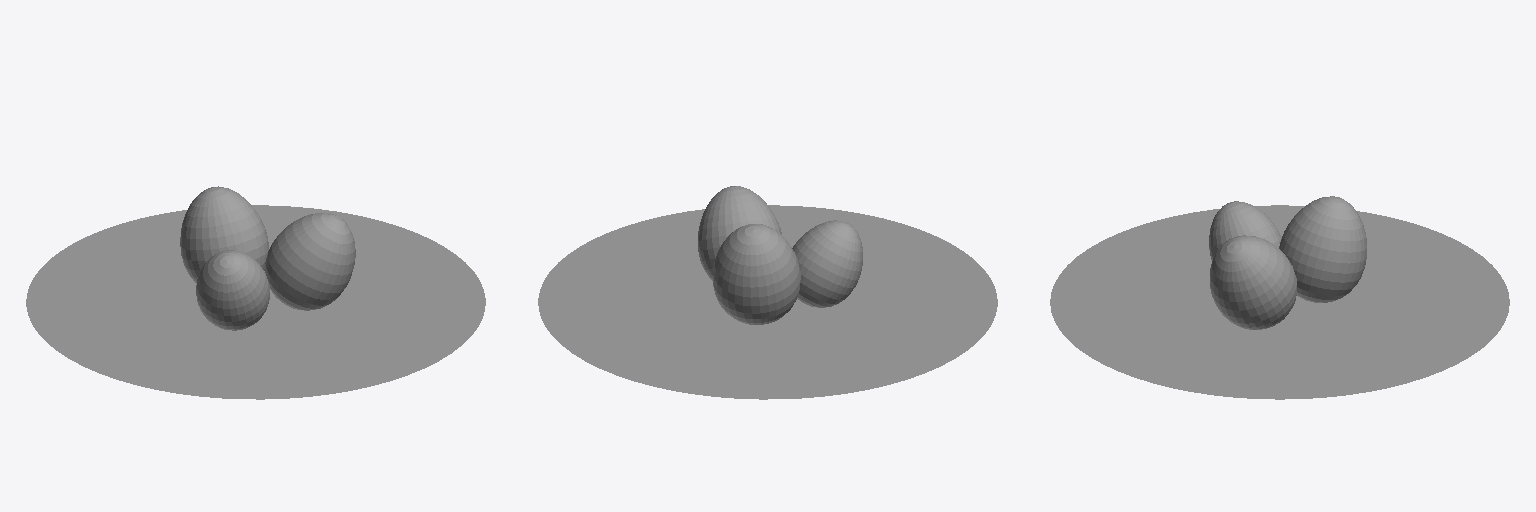
Rendered from Eggs.obj.
3 renders of one model, left to right at view 1: azimuth 30°, elevation 25°; view 2: azimuth 150°, elevation 25°; view 3: azimuth 270°, elevation 25°, orthographic.
Visible parts, largest first — view 1: Circle.001_Circle.003; view 2: Circle.001_Circle.003; view 3: Circle.001_Circle.003.
Part boxes in pixels (bbox=[...]): Circle.001_Circle.003: bbox=[26, 186, 485, 399]; Circle.001_Circle.003: bbox=[538, 186, 997, 399]; Circle.001_Circle.003: bbox=[1050, 196, 1509, 399].
Size of the model in its own units: 10.38 by 2.55 by 10.38.